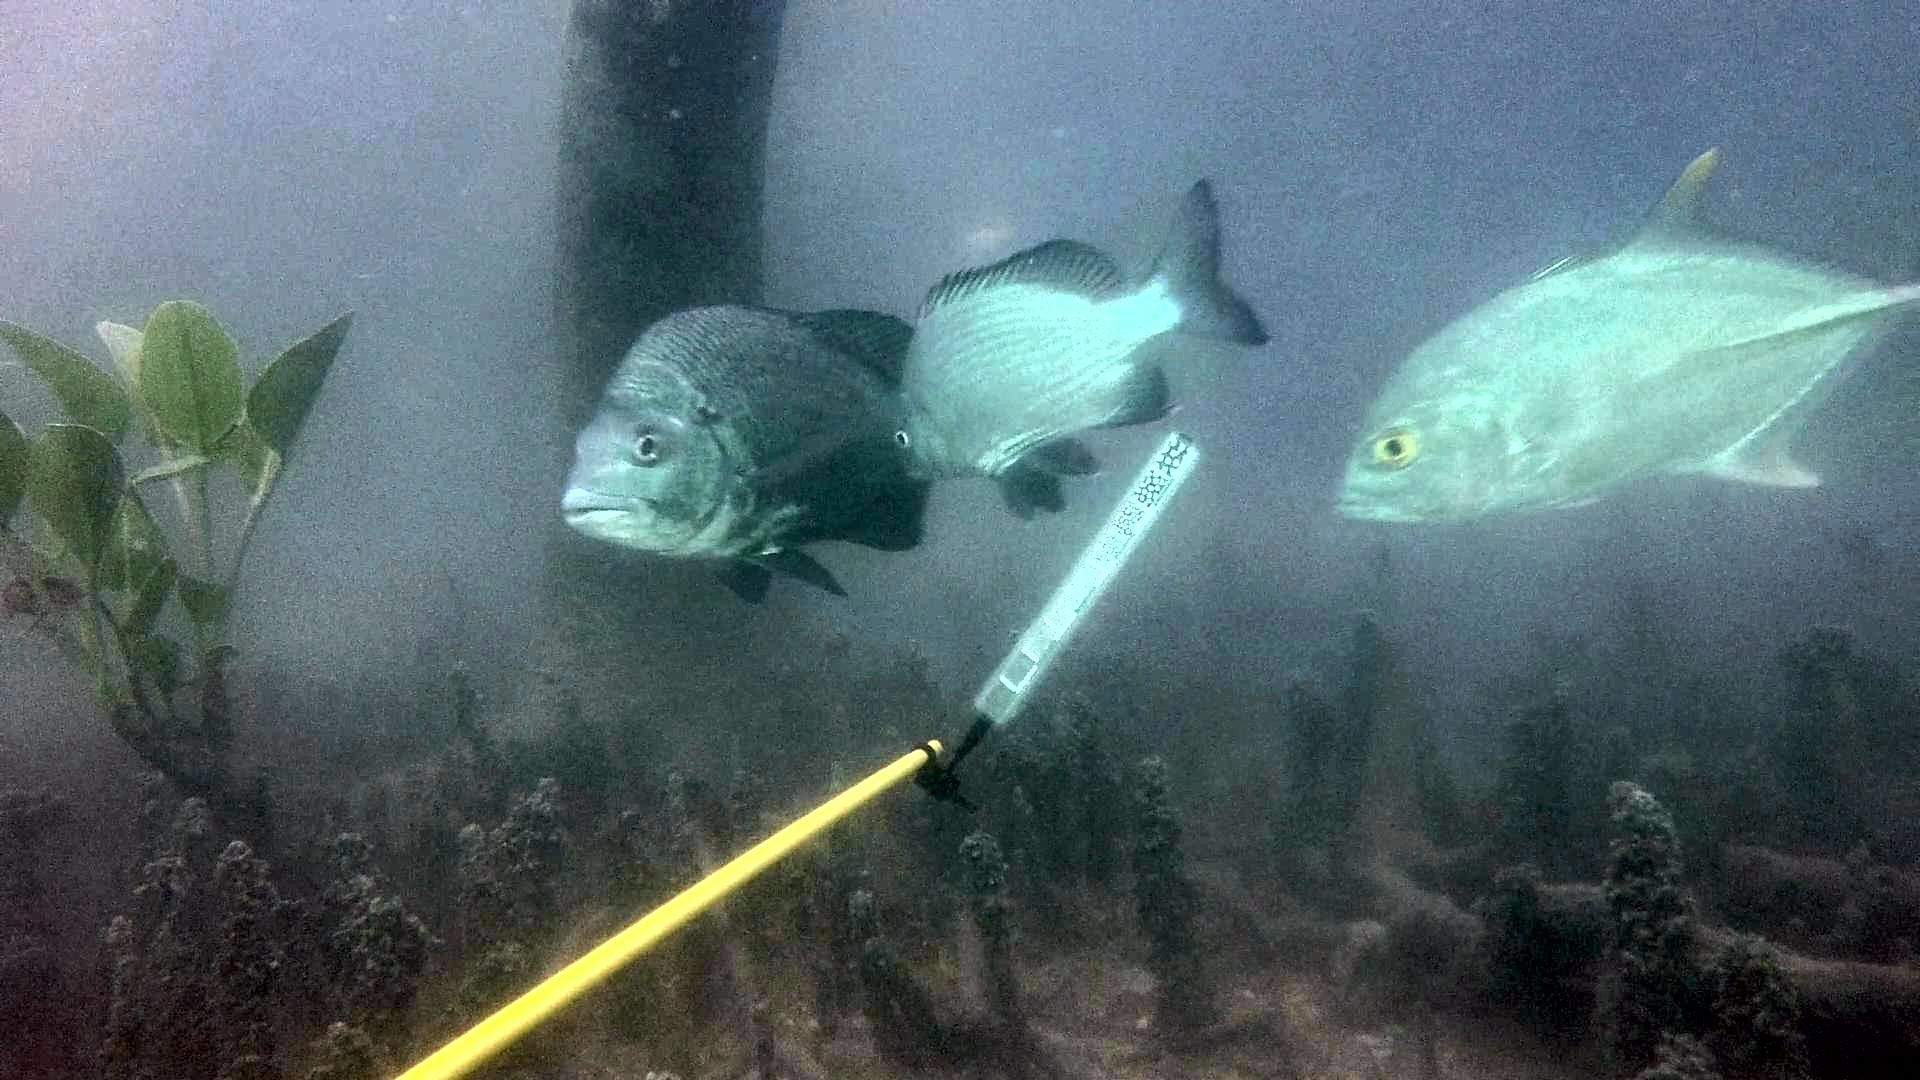acanthopagrus palmaris: (558, 265, 1067, 625), (887, 170, 1273, 520)
caranx: (1327, 133, 1920, 559)
